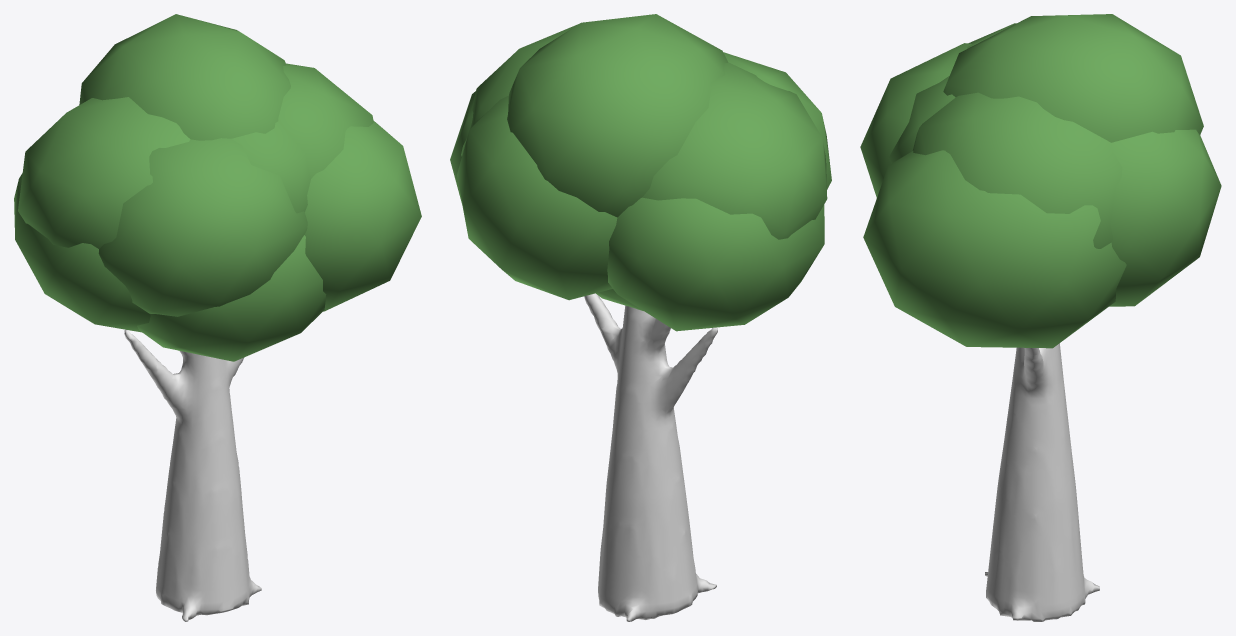
Rendered from NaturalTree_06_Dense.fbx.
3 renders of one model, left to right at view 1: azimuth 30°, elevation 25°; view 2: azimuth 150°, elevation 25°; view 3: azimuth 270°, elevation 25°, orthographic. The views are drawn at different scales.
Parts seen in each view (by area): view 1: Foliage_03.005, Trunk.005, Foliage_08, Foliage_01.005, Foliage_06.005, Foliage_07.005, Foliage_05.005, Foliage_02.005, Foliage_00.005; view 2: Foliage_08, Trunk.005, Foliage_05.005, Foliage_01.005, Foliage_04.005, Foliage_02.005, Foliage_03.005, Foliage_06.005; view 3: Foliage_06.005, Foliage_08, Trunk.005, Foliage_02.005, Foliage_04.005, Foliage_03.005, Foliage_00.005.
Part boxes in pixels (x1,y1,x2,y2): Foliage_03.005: [98, 138, 307, 316]; Trunk.005: [124, 329, 261, 621]; Foliage_08: [79, 14, 290, 140]; Foliage_01.005: [18, 97, 190, 248]; Foliage_06.005: [304, 120, 421, 311]; Foliage_07.005: [137, 235, 326, 361]; Foliage_05.005: [14, 173, 150, 332]; Foliage_02.005: [278, 63, 373, 178]; Foliage_00.005: [231, 121, 310, 213]; Foliage_08: [507, 14, 728, 217]; Trunk.005: [584, 293, 717, 621]; Foliage_05.005: [607, 197, 824, 331]; Foliage_01.005: [642, 62, 827, 239]; Foliage_04.005: [457, 95, 617, 300]; Foliage_02.005: [461, 24, 578, 156]; Foliage_03.005: [723, 52, 831, 189]; Foliage_06.005: [450, 91, 475, 204]; Foliage_06.005: [863, 150, 1126, 348]; Foliage_08: [943, 14, 1203, 142]; Trunk.005: [985, 343, 1099, 621]; Foliage_02.005: [912, 92, 1122, 248]; Foliage_04.005: [1109, 129, 1221, 306]; Foliage_03.005: [860, 43, 971, 197]; Foliage_00.005: [888, 76, 955, 163].
Size of the model in its own units: 2.04 by 3.19 by 1.79.
